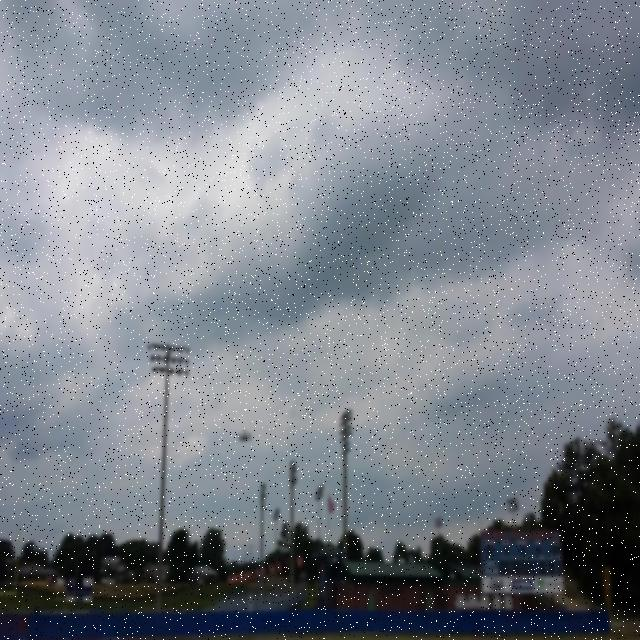UAV: (238, 429, 252, 443)
